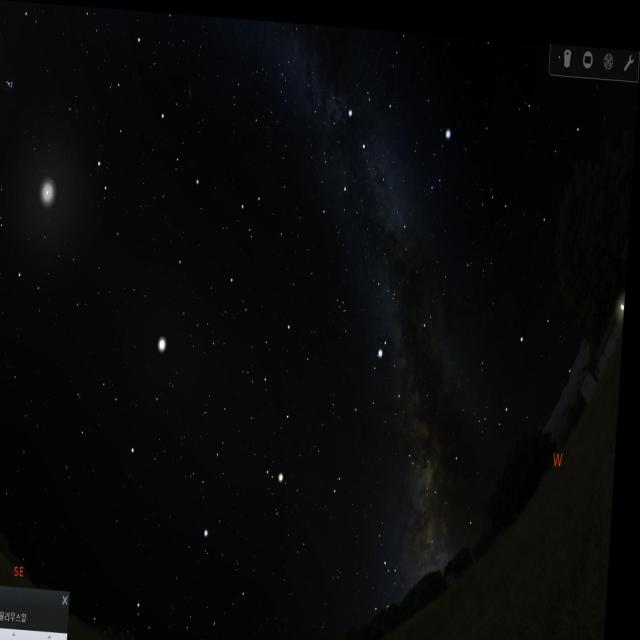aquila: (347, 326, 435, 466)
cygnus: (339, 89, 420, 235)
lyra: (423, 114, 454, 198)
moon: (32, 155, 68, 226)
pleiades: (0, 70, 19, 104)
